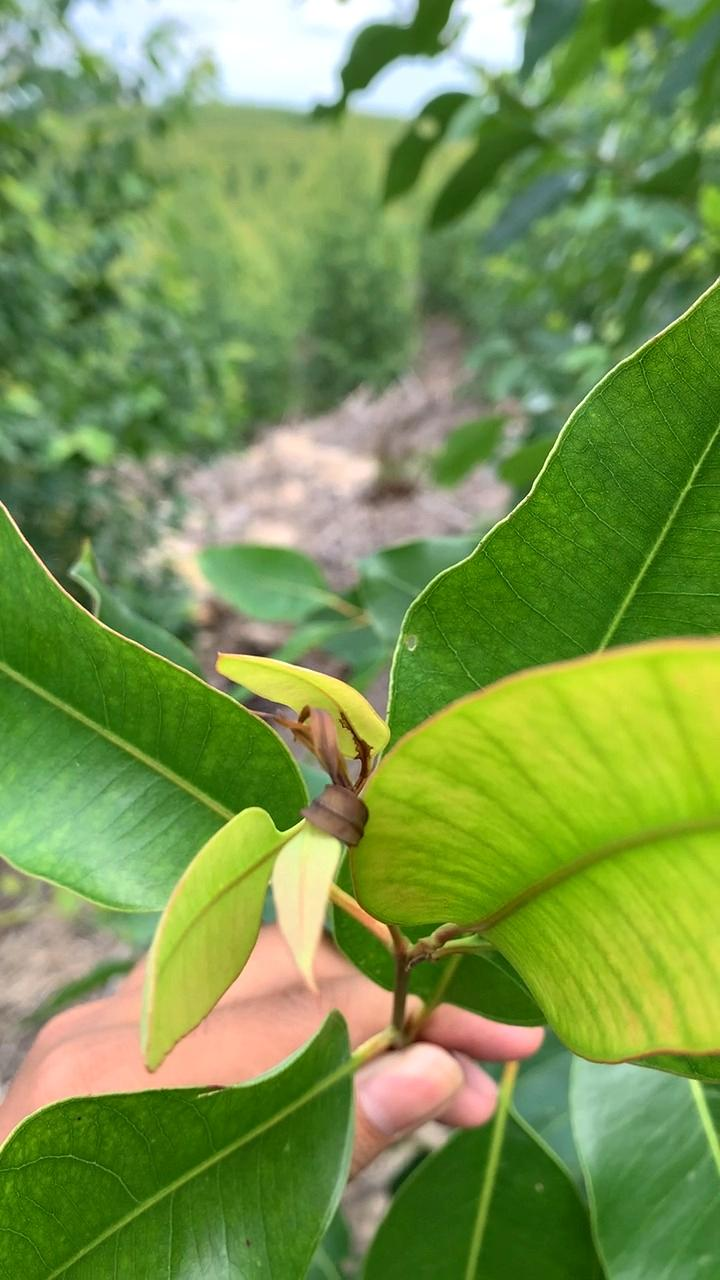Helopeltis-Withered Sprout: (283, 703, 381, 850)
